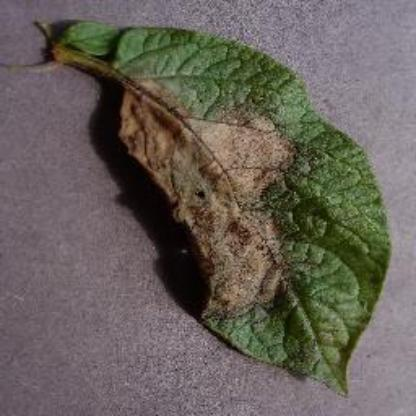Late-Blight: (34, 18, 390, 398)
